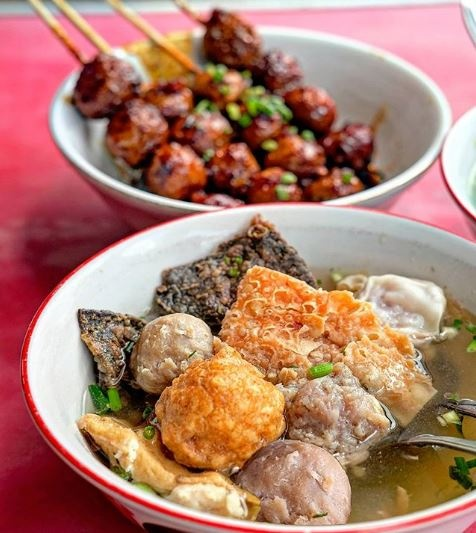bakso_malang: (77, 215, 446, 524)
